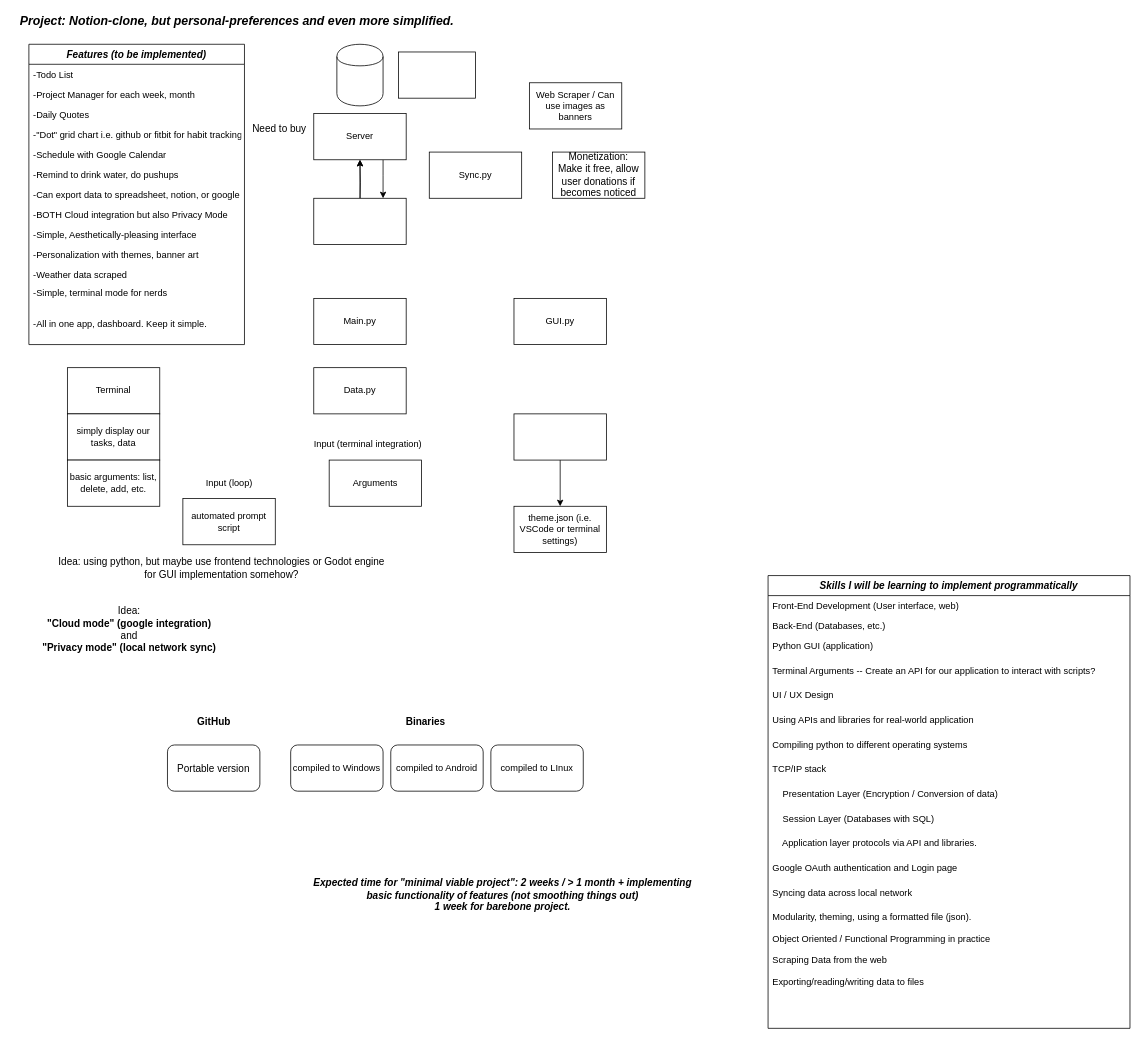
The diagram is 1143 pixels wide and 1043 high, and some of its shapes have lost their labels. Here are the shapes that lost their labels. From the top down, the centre of each, then its label:
At [359,75]: "Database / Cloud".
At [436,74]: "Google login / OAuth (makes it easier to implement, and to use)".
At [359,221]: "Client".
At [559,436]: "Themes.py".
